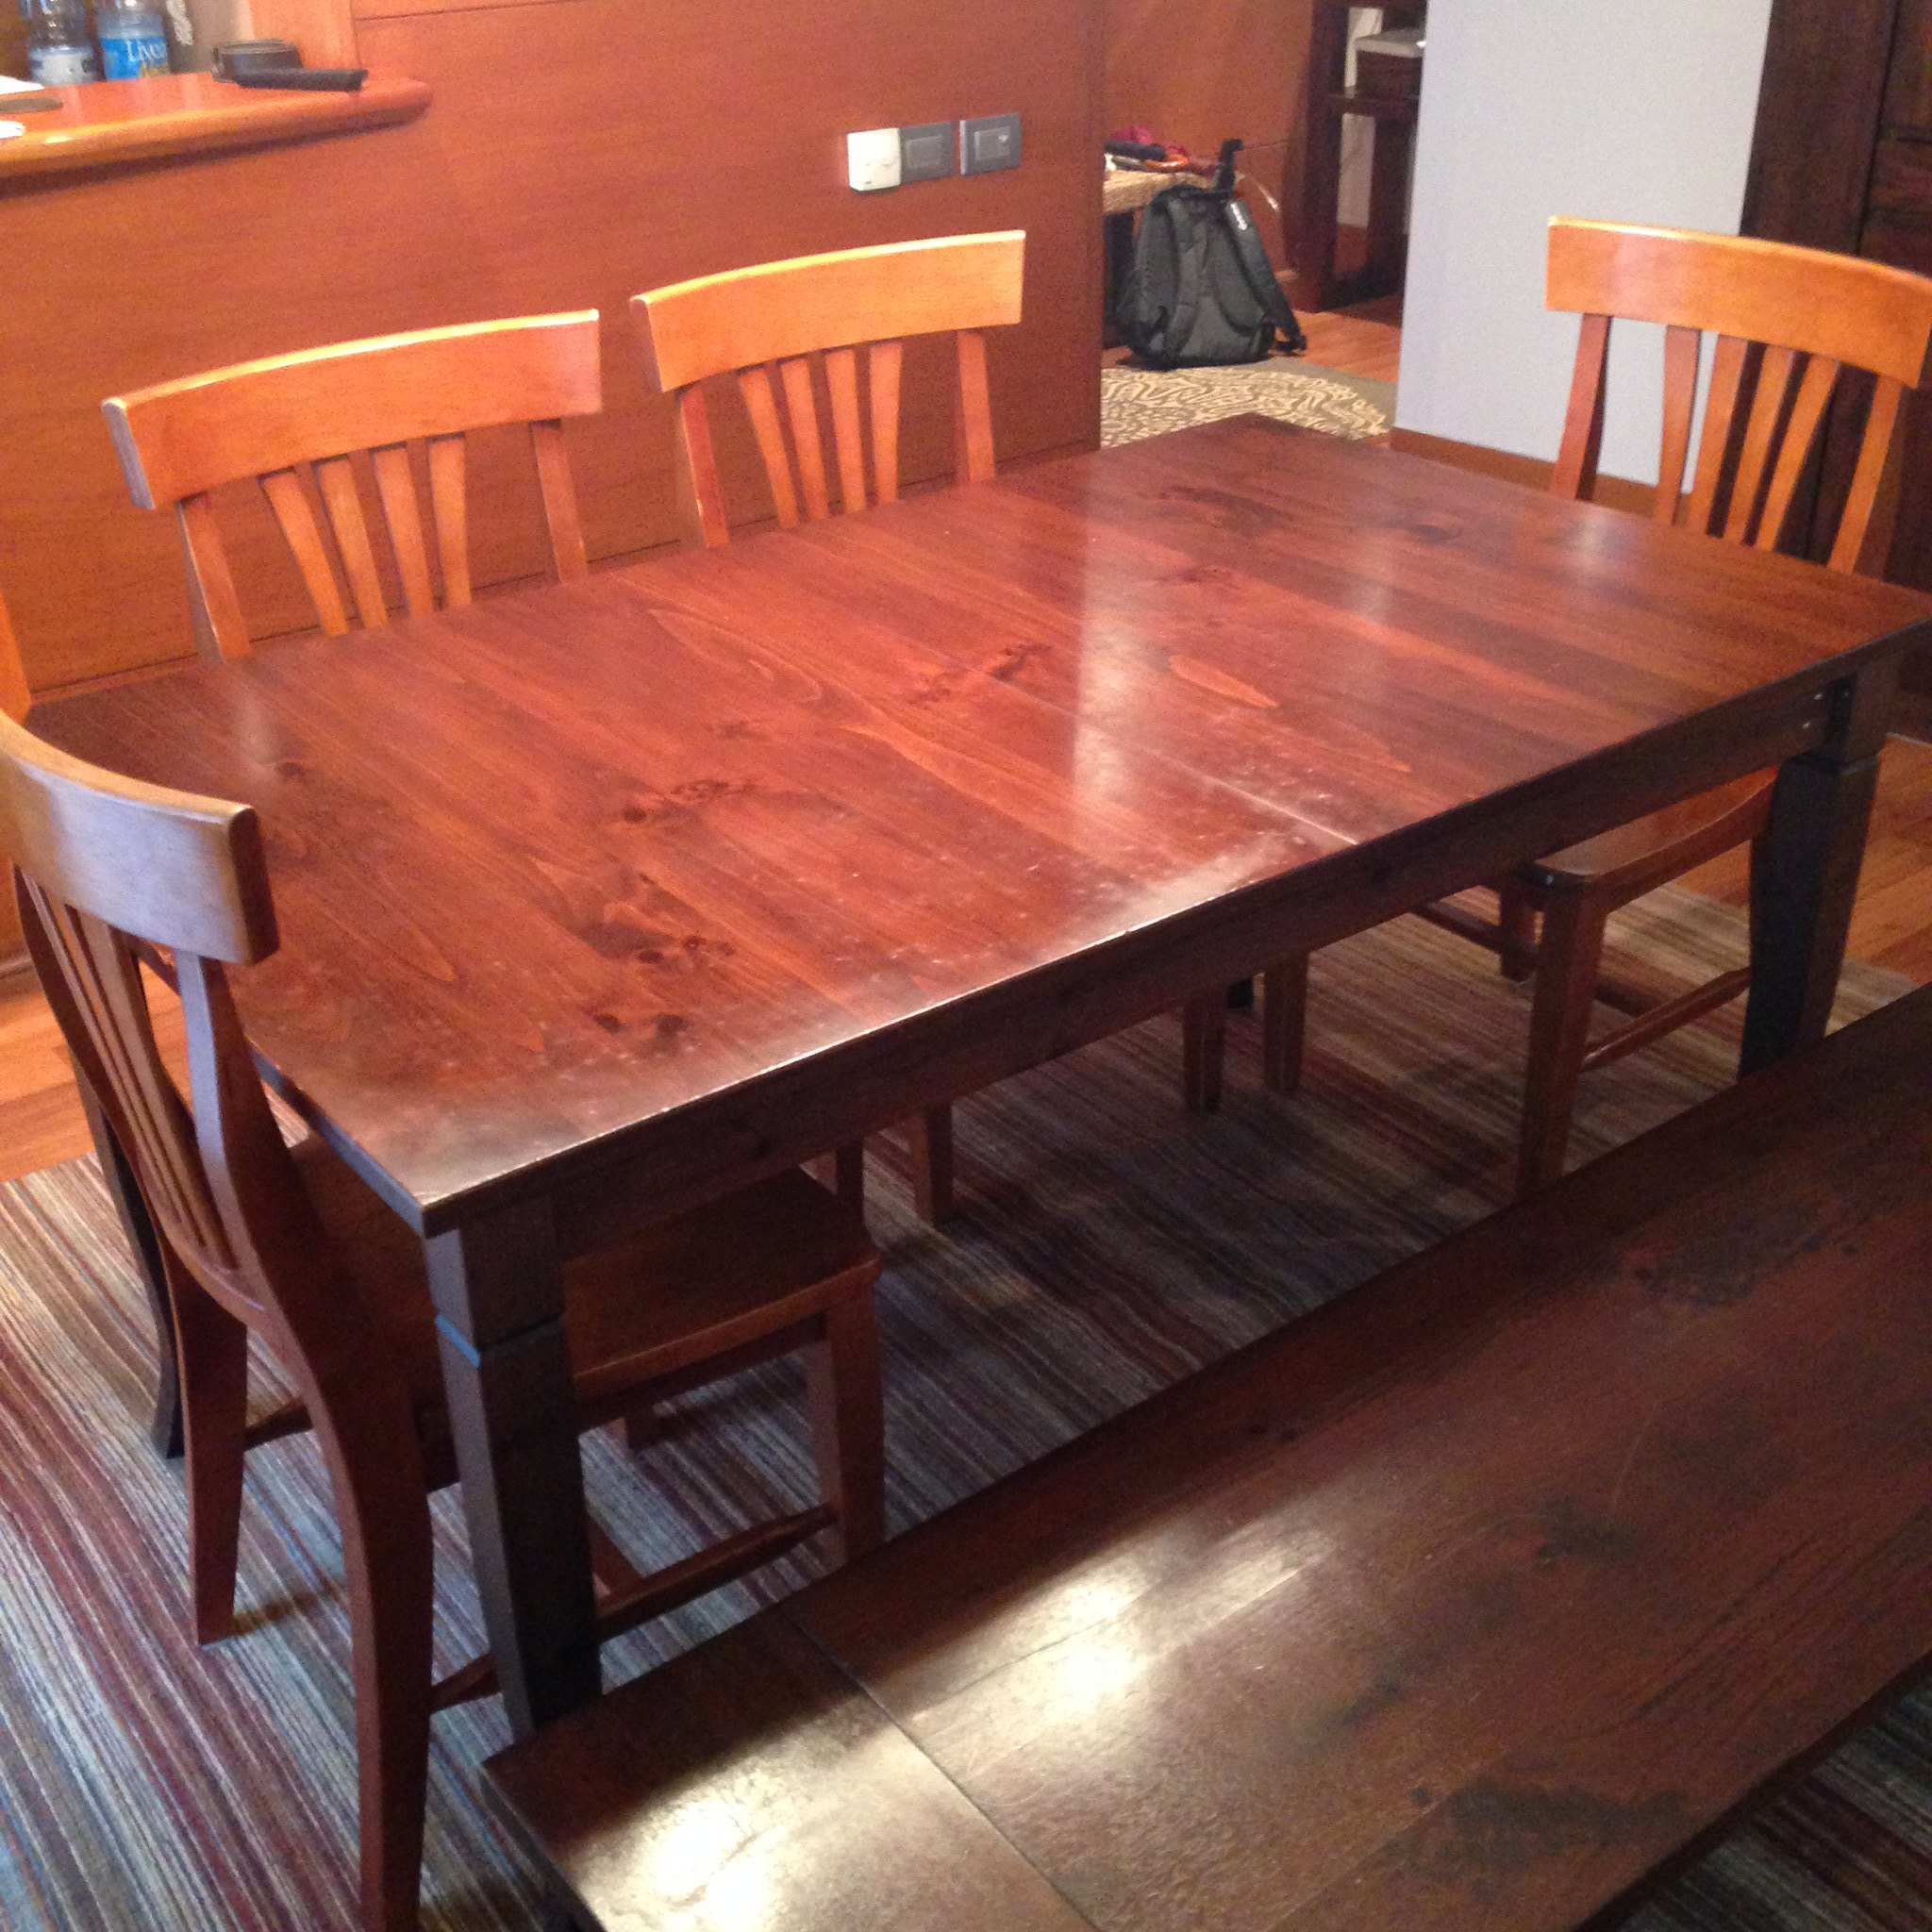dining table: (65, 331, 1900, 1775)
